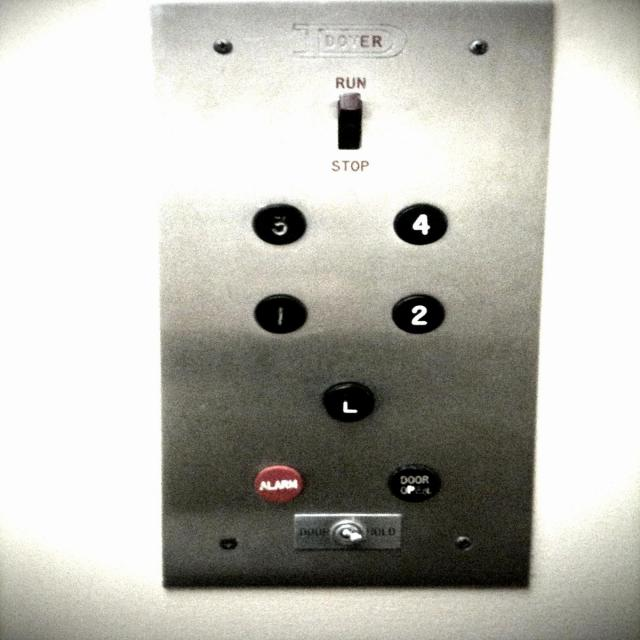1: (246, 287, 314, 340)
2: (387, 290, 448, 336)
3: (244, 198, 312, 250)
4: (386, 197, 455, 250)
L: (313, 374, 382, 428)
switch: (325, 92, 374, 153), (324, 517, 371, 549)
text: (246, 459, 312, 508), (382, 460, 445, 506)
